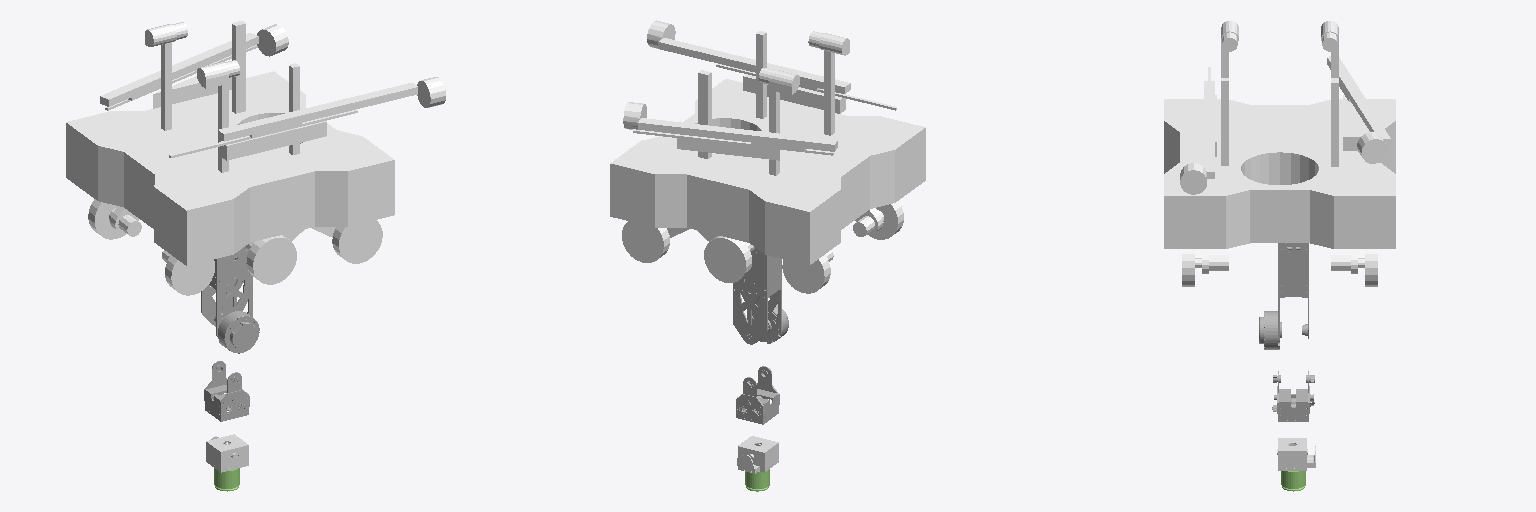
URDF robot description (robotic_arm):
<?xml version="1.0" encoding="utf-8"?>
<!-- This URDF was automatically created by SolidWorks to URDF Exporter! Originally created by [author] ([email redacted]) 
     Commit Version: 1.6.0-4-g7f85cfe  Build Version: 1.6.7995.38578
     For more information, please see http://wiki.ros.org/sw_urdf_exporter -->
<robot
  name="robotic_arm">
  <link
    name="base_link">
    <inertial>
      <origin
        xyz="3.545115228575E-18 7.02733317861868E-17 0.005"
        rpy="0 0 0" />
      <mass
        value="0.3" />
      <inertia
        ixx="0.0090025"
        ixy="-4.02961807440446E-20"
        ixz="-1.44560289664731E-22"
        iyy="6.5E-05"
        iyz="5.50919783425842E-19"
        izz="0.0090625" />
    </inertial>
    <visual>
      <origin
        xyz="0 0 0"
        rpy="0 0 0" />
      <geometry>
        <mesh
          filename="package://robotic_arm/meshes/base_link.STL" />
      </geometry>
      <material
        name="">
        <color
          rgba="1 1 1 1" />
      </material>
    </visual>
    <collision>
      <origin
        xyz="0 0 0"
        rpy="0 0 0" />
      <geometry>
        <mesh
          filename="package://robotic_arm/meshes/base_link.STL" />
      </geometry>
    </collision>
  </link>
  <link
    name="second_base_link">
    <inertial>
      <origin
        xyz="-0.044022887337792 -0.0176622667442875 0.0600389088080566"
        rpy="0 0 0" />
      <mass
        value="13.7706626732672" />
      <inertia
        ixx="0.00135146700857453"
        ixy="-2.12203171147033E-08"
        ixz="-1.9401607970181E-06"
        iyy="0.00279077700857323"
        iyz="-3.72530136797397E-08"
        izz="0.0019757045745801" />
    </inertial>
    <visual>
      <origin
        xyz="0 0 0"
        rpy="0 0 0" />
      <geometry>
        <mesh
          filename="package://robotic_arm/meshes/second_base_link.STL" />
      </geometry>
      <material
        name="">
        <color
          rgba="0.752941176470588 0.752941176470588 0.752941176470588 1" />
      </material>
    </visual>
    <collision>
      <origin
        xyz="0 0 0"
        rpy="0 0 0" />
      <geometry>
        <mesh
          filename="package://robotic_arm/meshes/second_base_link.STL" />
      </geometry>
    </collision>
  </link>
  <joint
    name="shift_joint"
    type="prismatic">
    <origin
      xyz="0.025 0 0.0159999999999999"
      rpy="-1.5707963267949 0 -1.5707963267949" />
    <parent
      link="base_link" />
    <child
      link="second_base_link" />
    <axis
      xyz="1 0 0" />
    <limit
      lower="0"
      upper="0"
      effort="0"
      velocity="0" />
  </joint>
  <link
    name="yaw_link_1">
    <inertial>
      <origin
        xyz="4.66964048193019E-07 0.0328590155370009 -0.000362520537038821"
        rpy="0 0 0" />
      <mass
        value="82.2937780685442" />
      <inertia
        ixx="0.0434637013801843"
        ixy="-4.93825912479033E-07"
        ixz="1.77132288546181E-07"
        iyy="0.128350688051016"
        iyz="-8.6307812460472E-08"
        izz="0.0940864524556386" />
    </inertial>
    <visual>
      <origin
        xyz="0 0 0"
        rpy="0 0 0" />
      <geometry>
        <mesh
          filename="package://robotic_arm/meshes/yaw_link_1.STL" />
      </geometry>
      <material
        name="">
        <color
          rgba="0.752941176470588 0.752941176470588 0.752941176470588 1" />
      </material>
    </visual>
    <collision>
      <origin
        xyz="0 0 0"
        rpy="0 0 0" />
      <geometry>
        <mesh
          filename="package://robotic_arm/meshes/yaw_link_1.STL" />
      </geometry>
    </collision>
  </link>
  <joint
    name="yaw_joint_1"
    type="revolute">
    <origin
      xyz="-0.0352368416313989 -0.0370000000000001 0"
      rpy="0 -1.5707963267949 0" />
    <parent
      link="second_base_link" />
    <child
      link="yaw_link_1" />
    <axis
      xyz="0 1 0" />
    <limit
      lower="-0.785"
      upper="0.785"
      effort="0"
      velocity="0" />
  </joint>
  <link
    name="pitch_link_1">
    <inertial>
      <origin
        xyz="6.76805756233342E-05 -0.00204269919053575 0.0795926868026391"
        rpy="0 0 0" />
      <mass
        value="295.934350579955" />
      <inertia
        ixx="0.521077297298085"
        ixy="3.11296490831532E-07"
        ixz="-1.13263447296061E-06"
        iyy="0.288326509824729"
        iyz="-0.00452538527112822"
        izz="0.468276403116782" />
    </inertial>
    <visual>
      <origin
        xyz="0 0 0"
        rpy="0 0 0" />
      <geometry>
        <mesh
          filename="package://robotic_arm/meshes/pitch_link_1.STL" />
      </geometry>
      <material
        name="">
        <color
          rgba="0.752941176470588 0.752941176470588 0.752941176470588 1" />
      </material>
    </visual>
    <collision>
      <origin
        xyz="0 0 0"
        rpy="0 0 0" />
      <geometry>
        <mesh
          filename="package://robotic_arm/meshes/pitch_link_1.STL" />
      </geometry>
    </collision>
  </link>
  <joint
    name="pitch_joint_1"
    type="revolute">
    <origin
      xyz="0 0.0929999999999999 0"
      rpy="3.14159265358979 -1.57079631189374 1.54556245488589" />
    <parent
      link="yaw_link_1" />
    <child
      link="pitch_link_1" />
    <axis
      xyz="1 0 0" />
    <limit
      lower="-1.395"
      upper="1.395"
      effort="0"
      velocity="0" />
  </joint>
  <link
    name="pitch_link_2">
    <inertial>
      <origin
        xyz="-7.86363827882941E-06 -0.0118492706816219 0.0628431163153897"
        rpy="0 0 0" />
      <mass
        value="17.9447761996099" />
      <inertia
        ixx="0.00409983538513512"
        ixy="-2.7842223449585E-08"
        ixz="2.11237619566311E-08"
        iyy="0.00308460062102436"
        iyz="2.03568842417702E-07"
        izz="0.00392292897806876" />
    </inertial>
    <visual>
      <origin
        xyz="0 0 0"
        rpy="0 0 0" />
      <geometry>
        <mesh
          filename="package://robotic_arm/meshes/pitch_link_2.STL" />
      </geometry>
      <material
        name="">
        <color
          rgba="0.752941176470588 0.752941176470588 0.752941176470588 1" />
      </material>
    </visual>
    <collision>
      <origin
        xyz="0 0 0"
        rpy="0 0 0" />
      <geometry>
        <mesh
          filename="package://robotic_arm/meshes/pitch_link_2.STL" />
      </geometry>
    </collision>
  </link>
  <joint
    name="pitch_joint_2"
    type="revolute">
    <origin
      xyz="-0.0005 -0.0070647 0.27991"
      rpy="-1.5456 0 0" />
    <parent
      link="pitch_link_1" />
    <child
      link="pitch_link_2" />
    <axis
      xyz="-1 0 0" />
    <limit
      lower="-2.355"
      upper="2.355"
      effort="0"
      velocity="0" />
  </joint>
  <link
    name="roll_link_1">
    <inertial>
      <origin
        xyz="0.000459875490631929 -0.0438657402293758 3.37810933537762E-05"
        rpy="0 0 0" />
      <mass
        value="76.7289981060703" />
      <inertia
        ixx="0.0312961335815327"
        ixy="-8.61916022090324E-11"
        ixz="4.38036375111009E-06"
        iyy="0.0379769952753597"
        iyz="-2.35626179558082E-05"
        izz="0.0387928626574603" />
    </inertial>
    <visual>
      <origin
        xyz="0 0 0"
        rpy="0 0 0" />
      <geometry>
        <mesh
          filename="package://robotic_arm/meshes/roll_link_1.STL" />
      </geometry>
      <material
        name="">
        <color
          rgba="0.752941176470588 0.752941176470588 0.752941176470588 1" />
      </material>
    </visual>
    <collision>
      <origin
        xyz="0 0 0"
        rpy="0 0 0" />
      <geometry>
        <mesh
          filename="package://robotic_arm/meshes/roll_link_1.STL" />
      </geometry>
    </collision>
  </link>
  <joint
    name="roll_joint_1"
    type="revolute">
    <origin
      xyz="0 -0.28 0"
      rpy="0 0 0" />
    <parent
      link="pitch_link_2" />
    <child
      link="roll_link_1" />
    <axis
      xyz="0 1 0" />
    <limit
      lower="-3.14"
      upper="3.14"
      effort="0"
      velocity="0" />
  </joint>
  <link
    name="pitch_link_3">
    <inertial>
      <origin
        xyz="0.0207723253549985 -0.00639448569451928 -1.79399889483831E-06"
        rpy="0 0 0" />
      <mass
        value="71.4697928533591" />
      <inertia
        ixx="0.0255220344389946"
        ixy="0.000765184353880394"
        ixz="-2.91427652091716E-06"
        iyy="0.0293476093259731"
        iyz="2.46482766481398E-06"
        izz="0.0330881905441518" />
    </inertial>
    <visual>
      <origin
        xyz="0 0 0"
        rpy="0 0 0" />
      <geometry>
        <mesh
          filename="package://robotic_arm/meshes/pitch_link_3.STL" />
      </geometry>
      <material
        name="">
        <color
          rgba="0.929411764705882 0.929411764705882 0.929411764705882 1" />
      </material>
    </visual>
    <collision>
      <origin
        xyz="0 0 0"
        rpy="0 0 0" />
      <geometry>
        <mesh
          filename="package://robotic_arm/meshes/pitch_link_3.STL" />
      </geometry>
    </collision>
  </link>
  <joint
    name="pitch_joint_3"
    type="revolute">
    <origin
      xyz="0.0363 -0.103 0"
      rpy="-3.1366 0 3.1416" />
    <parent
      link="roll_link_1" />
    <child
      link="pitch_link_3" />
    <axis
      xyz="1 0 0" />
    <limit
      lower="-1.57"
      upper="1.57"
      effort="0"
      velocity="0" />
  </joint>
  <link
    name="roll_link_2">
    <inertial>
      <origin
        xyz="3.30422302713407E-08 -0.0242589518113975 5.72308215922301E-08"
        rpy="0 0 0" />
      <mass
        value="41.6646751096041" />
      <inertia
        ixx="0.0324237377311637"
        ixy="-8.8294057338917E-18"
        ixz="2.60208521396521E-18"
        iyy="0.037832723323421"
        iyz="-8.46801529597514E-18"
        izz="0.0324237377311638" />
    </inertial>
    <visual>
      <origin
        xyz="0 0 0"
        rpy="0 0 0" />
      <geometry>
        <mesh
          filename="package://robotic_arm/meshes/roll_link_2.STL" />
      </geometry>
      <material
        name="">
        <color
          rgba="0.647058823529412 0.854901960784314 0.533333333333333 1" />
      </material>
    </visual>
    <collision>
      <origin
        xyz="0 0 0"
        rpy="0 0 0" />
      <geometry>
        <mesh
          filename="package://robotic_arm/meshes/roll_link_2.STL" />
      </geometry>
    </collision>
  </link>
  <joint
    name="roll_joint_2"
    type="revolute">
    <origin
      xyz="0.036315 -0.0345 0.00017249"
      rpy="-3.1304 -1.1081 3.1316" />
    <parent
      link="pitch_link_3" />
    <child
      link="roll_link_2" />
    <axis
      xyz="0 -1 0" />
    <limit
      lower="-3.14"
      upper="3.14"
      effort="0"
      velocity="0" />
  </joint>
</robot>

--- Facts derived from the render (not from the file) ---
3 views of the same robot in one strip: view 1: azimuth 30°, elevation 25°; view 2: azimuth 150°, elevation 25°; view 3: azimuth 270°, elevation 25° (orthographic).
Model robotic_arm with 8 links and 7 joints (6 revolute, 1 prismatic), rooted at base_link, posed every joint at zero.
Visible links, largest first — view 1: base_link, pitch_link_1, roll_link_1, pitch_link_3; view 2: base_link, pitch_link_1, roll_link_1, pitch_link_3; view 3: base_link, pitch_link_1, roll_link_1, pitch_link_3.
Link boxes in pixels (left/top/right/bottom): base_link: left=66, top=21, right=445, bottom=295; pitch_link_1: left=201, top=247, right=259, bottom=353; roll_link_1: left=204, top=361, right=249, bottom=421; pitch_link_3: left=206, top=434, right=248, bottom=472; base_link: left=610, top=20, right=925, bottom=293; pitch_link_1: left=733, top=248, right=788, bottom=344; roll_link_1: left=736, top=366, right=779, bottom=424; pitch_link_3: left=737, top=436, right=778, bottom=473; base_link: left=1164, top=21, right=1395, bottom=286; pitch_link_1: left=1259, top=243, right=1308, bottom=349; roll_link_1: left=1272, top=371, right=1314, bottom=421; pitch_link_3: left=1277, top=438, right=1315, bottom=470.
Bounding box of the posed robot: 0.7579 × 0.592 × 1.23 m (x, y, z).
7 mesh visuals loaded from 8 distinct referenced files (7 binary STL); not drawn: 1 (reference not matched to a file when rendering).